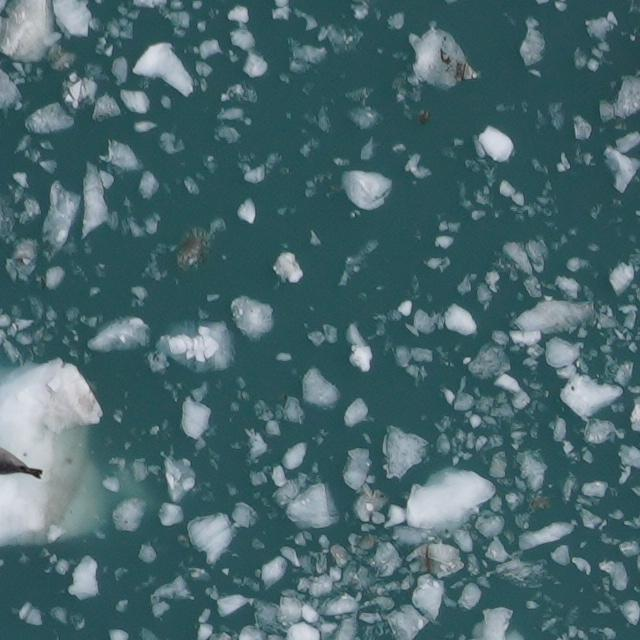seal: (0, 447, 43, 477)
